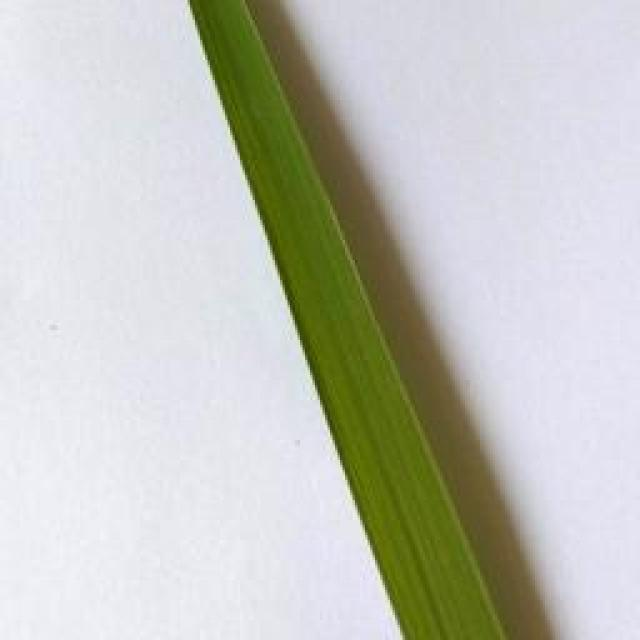Healthy-Plant: (184, 0, 510, 640)
